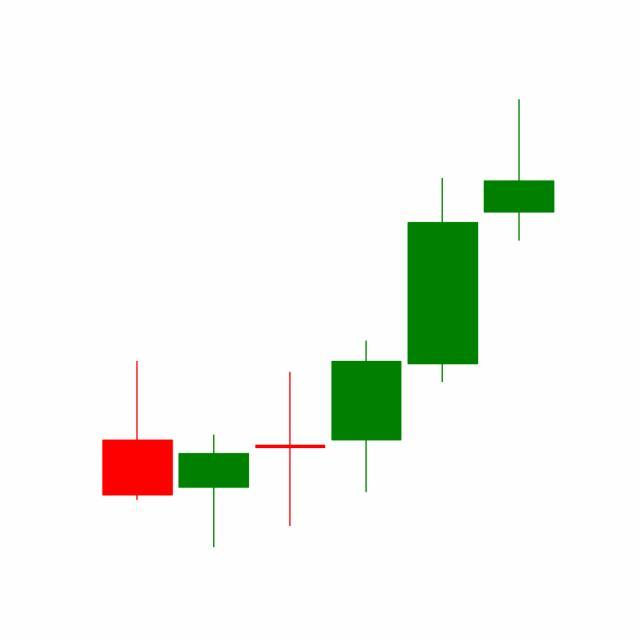Advance Block: (326, 99, 555, 498)
